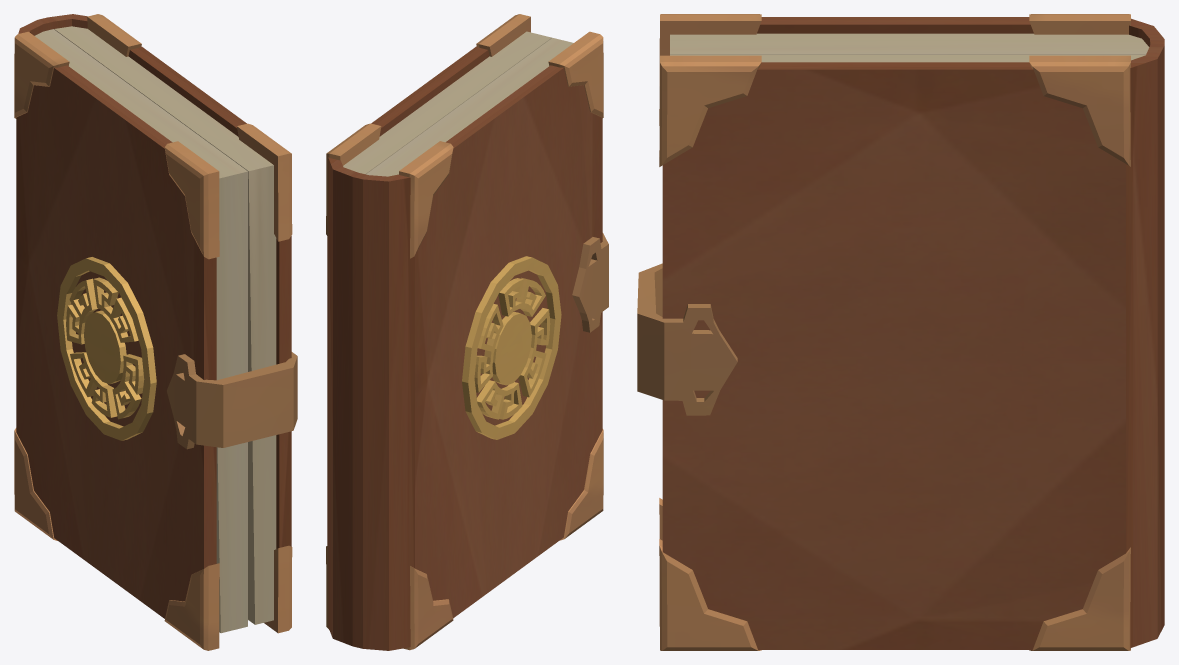
File: stylized_book.glb
The picture shows the model from 3 angles, left to right: view 1: azimuth 30°, elevation 25°; view 2: azimuth 150°, elevation 25°; view 3: azimuth 270°, elevation 25°; orthographic projection. The views are drawn at different scales.
Visible parts, largest first — view 1: Cube; view 2: Cube; view 3: Cube.
Part boxes in pixels (x1,y1,x2,y2): Cube: [14, 14, 297, 650]; Cube: [326, 14, 608, 650]; Cube: [637, 14, 1164, 650].
Bounding box in the file's own units: 0.9867 × 4.45 × 3.61.
5 materials, 5 textured.
